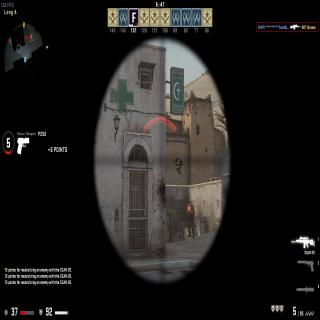CT-Body: (187, 200, 195, 238)
CT-Head: (189, 200, 191, 206)
T-Body: (176, 157, 182, 176)
T-Head: (176, 156, 178, 161)
